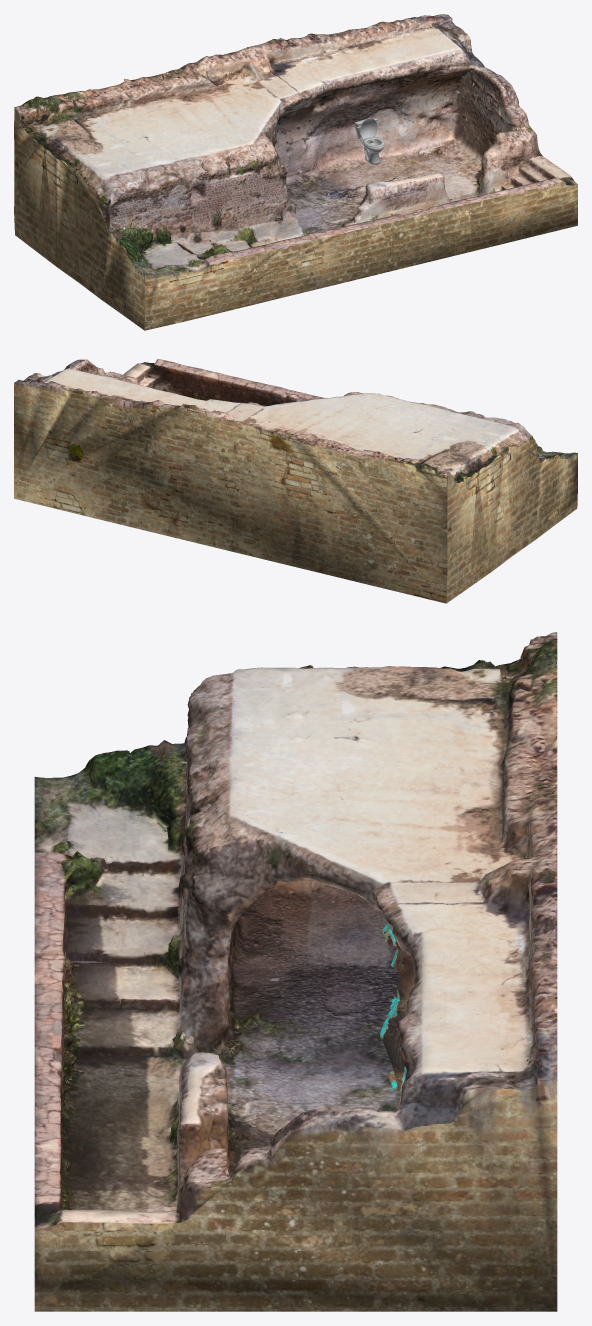
Rendered from cisterna.lod0.glb.
3 renders of one model, top to bottom at view 1: azimuth 30°, elevation 25°; view 2: azimuth 150°, elevation 25°; view 3: azimuth 270°, elevation 25°, orthographic. The views are drawn at different scales.
Visible parts, largest first — view 1: cisterna; view 2: cisterna; view 3: cisterna.
Boxes of the visible parts, box(x1,y1,x2,y2) form: cisterna: box(14, 14, 577, 330); cisterna: box(14, 359, 577, 603); cisterna: box(34, 632, 557, 1311).
Size of the model in its own units: 22.26 by 6.64 by 11.62.
Materials: 4 (4 with a texture image).
